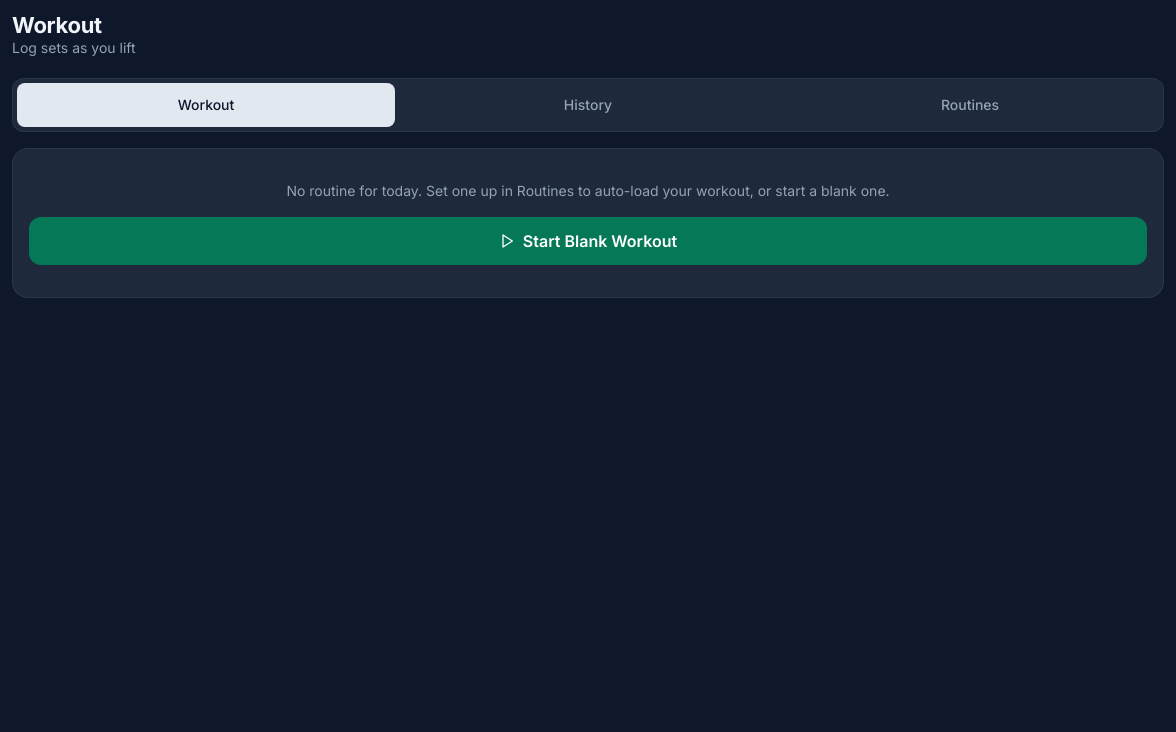
Test case: active-workout operate layout › keeps the selector visible when the workout has no items yet
Step 1. Click the button "Start Blank Workout" → (588, 241), box [29,217,1147,265]
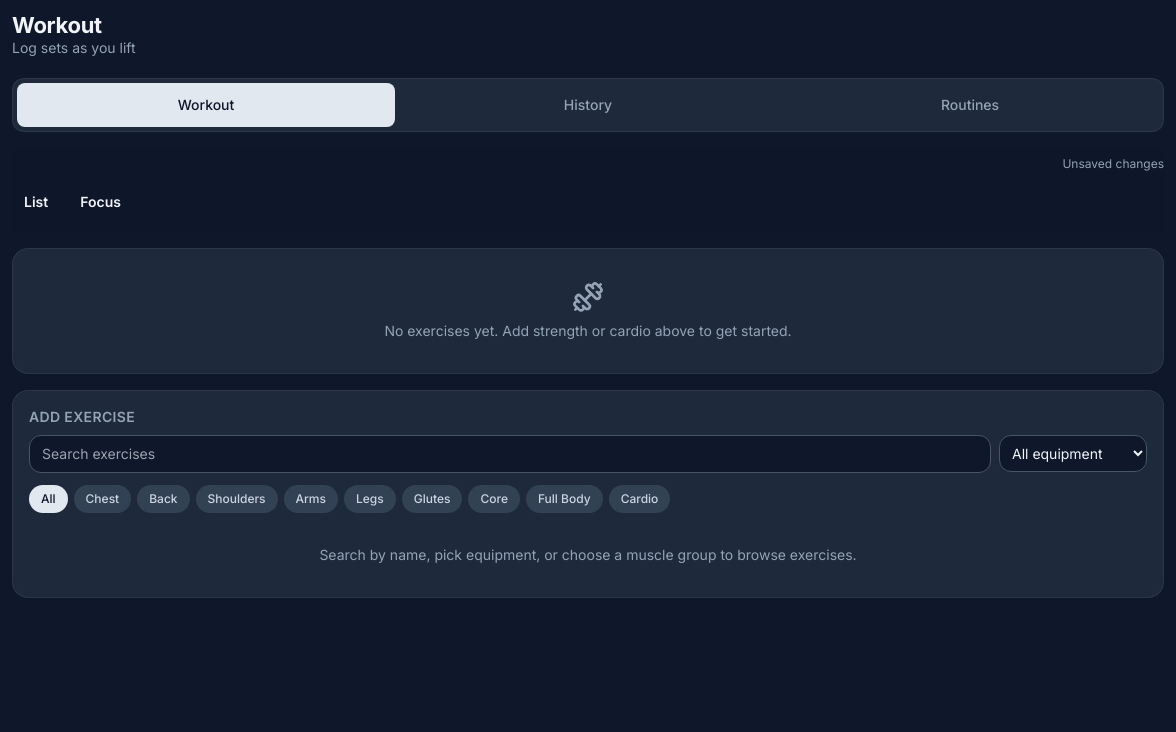
Expected: the element "Add Exercise" is shown, [12,390,1164,598]
